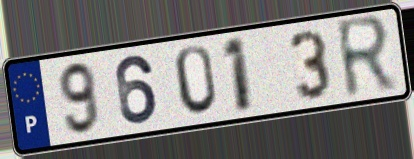0: (171, 43, 219, 119)
1: (221, 34, 258, 116)
3: (286, 27, 333, 102)
6: (113, 53, 161, 128)
9: (56, 58, 103, 137)
R: (332, 12, 399, 104)
